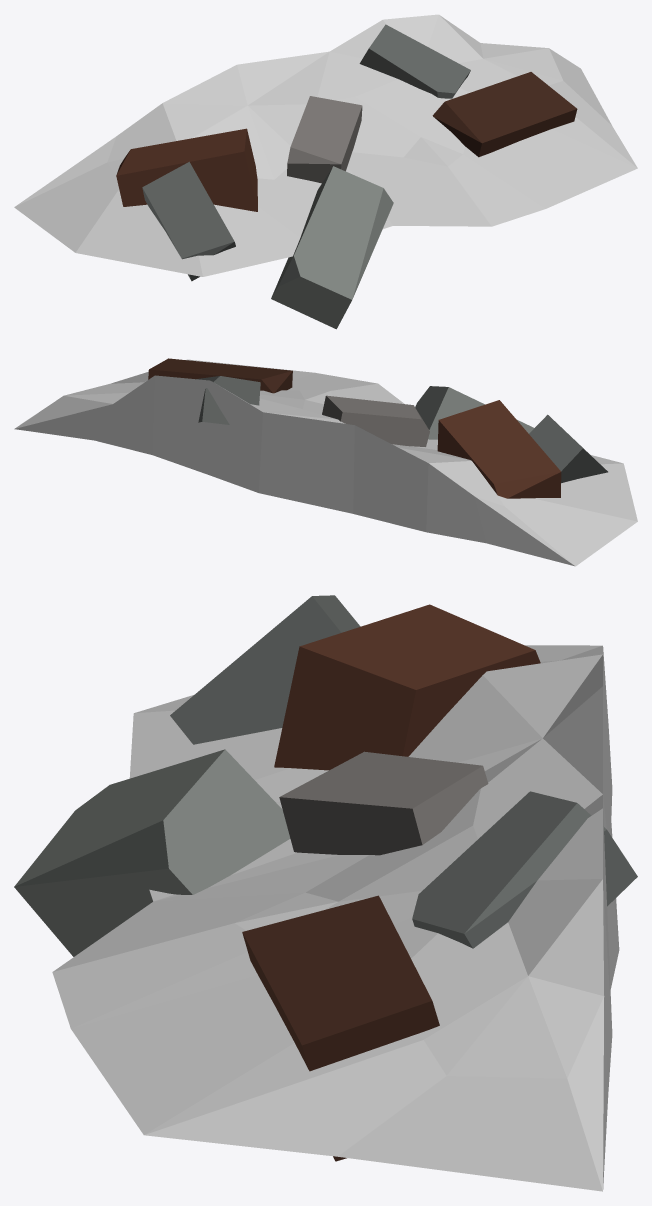
Rendered from SM_Prop_Debris_Straight_Long_01.fbx.
The picture shows the model from 3 angles, top to bottom: view 1: azimuth 30°, elevation 25°; view 2: azimuth 150°, elevation 25°; view 3: azimuth 270°, elevation 25°; orthographic projection. The views are drawn at different scales.
Parts seen in each view (by area): view 1: SM_Prop_Debris_Straight_Long_01; view 2: SM_Prop_Debris_Straight_Long_01; view 3: SM_Prop_Debris_Straight_Long_01.
Boxes of the visible parts, box(x1,y1,x2,y2) form: SM_Prop_Debris_Straight_Long_01: box(14, 14, 637, 329); SM_Prop_Debris_Straight_Long_01: box(14, 358, 637, 566); SM_Prop_Debris_Straight_Long_01: box(14, 595, 637, 1191).
Size of the model in its own units: 146 by 42.54 by 70.09.
